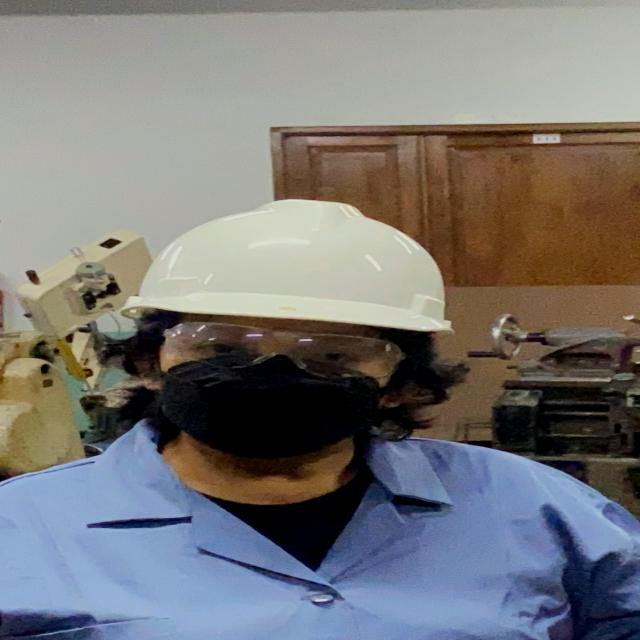face_mask: (154, 319, 400, 457)
glasses: (148, 318, 423, 382)
head_helmet: (119, 193, 459, 329)
person: (0, 195, 640, 640)
